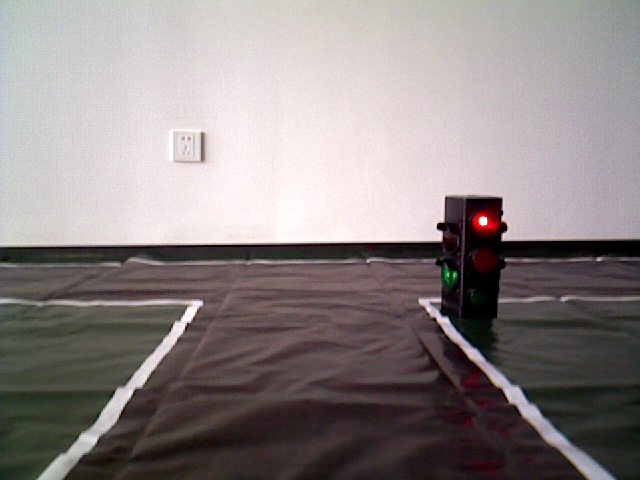red: (441, 196, 498, 320)
